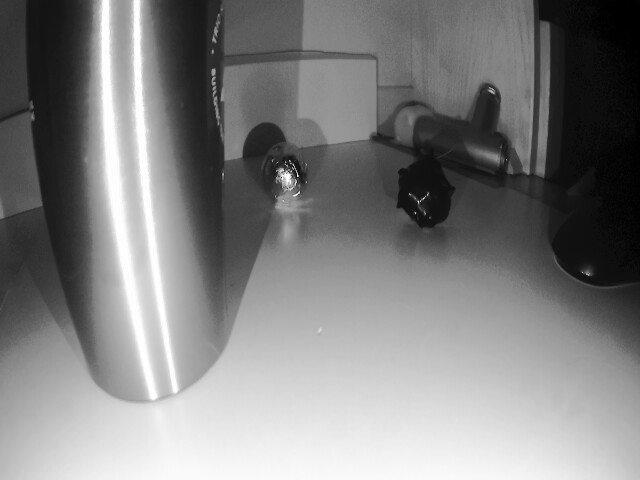black: (254, 144, 316, 208)
silver: (392, 157, 458, 228)
